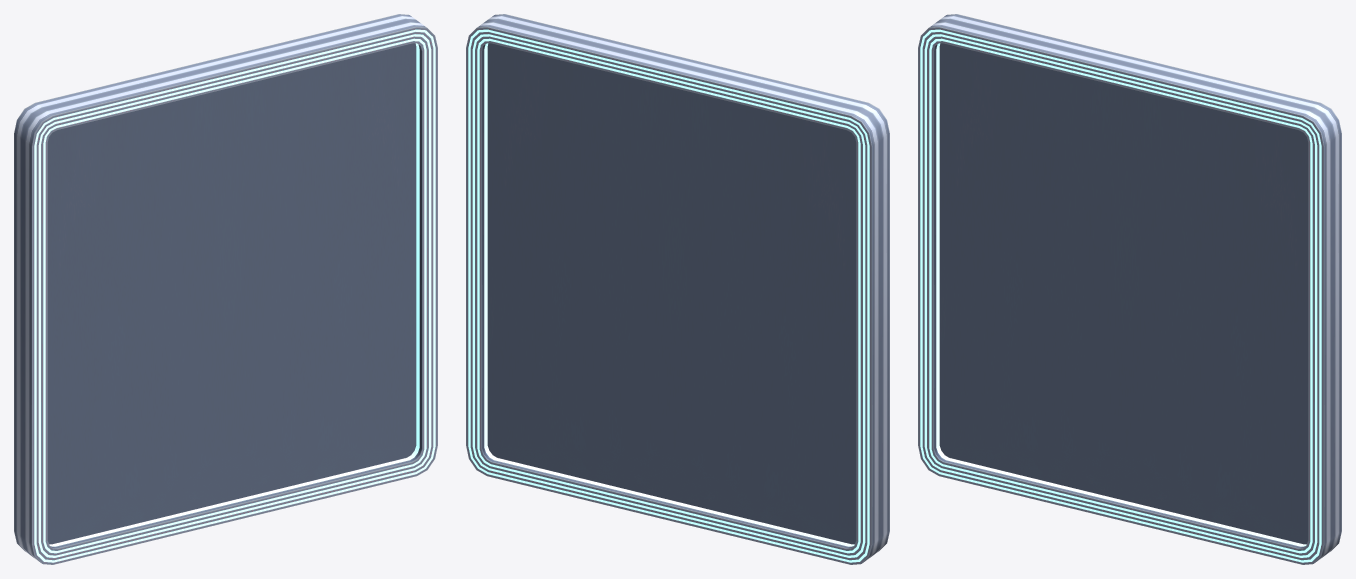
File: obj_governance03.gltf
The picture shows the model from 3 angles, left to right: view 1: azimuth 30°, elevation 25°; view 2: azimuth 150°, elevation 25°; view 3: azimuth 330°, elevation 25°; orthographic projection.
Visible parts, largest first — view 1: obj_governance03; view 2: obj_governance03; view 3: obj_governance03.
Part boxes in pixels (<box>): obj_governance03: <box>14,14,437,564</box>; obj_governance03: <box>466,14,889,564</box>; obj_governance03: <box>918,14,1341,564</box>.
Size of what is drawn, in the model's own units: 2.17 by 2.29 by 0.1666.
Materials: 2 (1 with a texture image).
